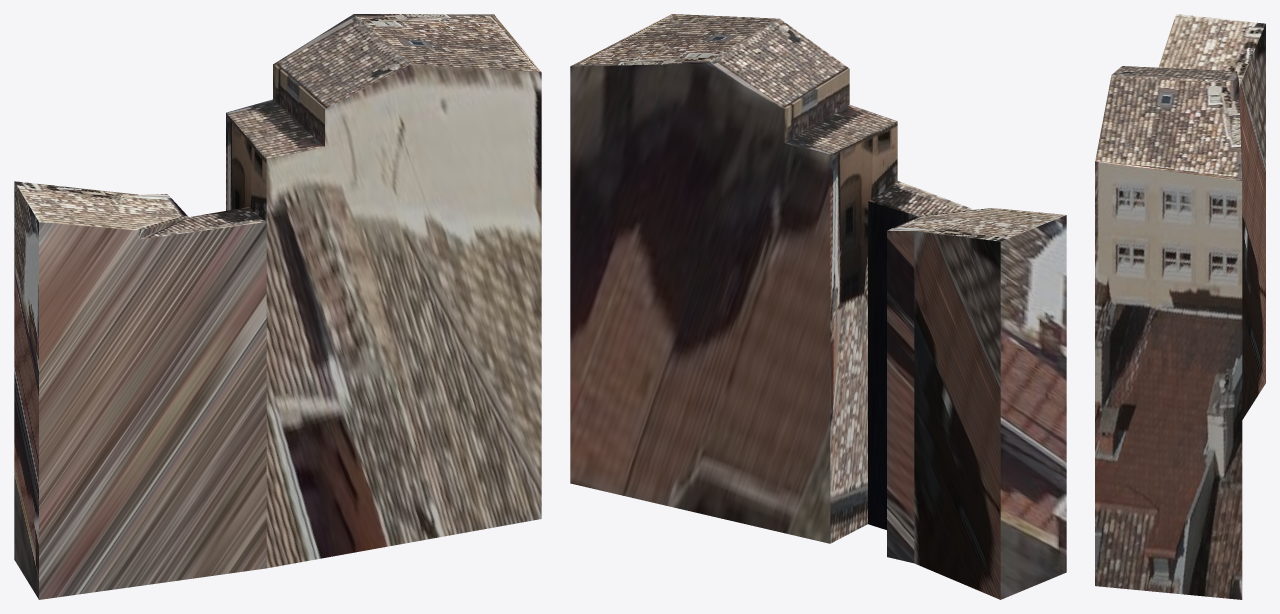
3 views of the same model, side by side, from view 1: azimuth 30°, elevation 25°; view 2: azimuth 150°, elevation 25°; view 3: azimuth 270°, elevation 25° (orthographic). The views are drawn at different scales.
Visible parts, largest first — view 1: Z_UP; view 2: Z_UP; view 3: Z_UP.
Boxes of the visible parts, left/top/right/bottom form: Z_UP: left=14, top=14, right=541, bottom=599; Z_UP: left=570, top=14, right=1066, bottom=599; Z_UP: left=1095, top=14, right=1265, bottom=599.
Size of the model in its own units: 23.5 by 21.92 by 7.47.
Materials: 2 (1 with a texture image).
